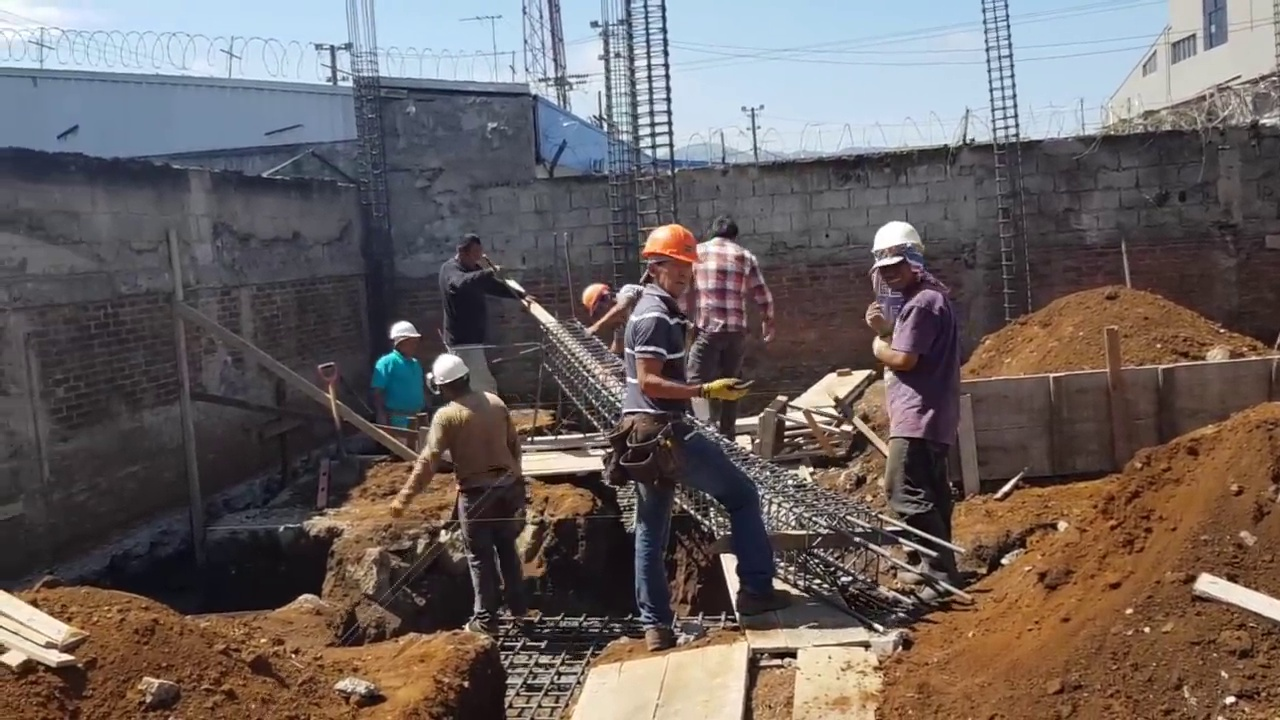helmet: (867, 220, 931, 272), (636, 223, 703, 271), (429, 355, 468, 387), (582, 280, 608, 315), (385, 324, 422, 346)
helmet-off: (445, 233, 482, 269), (708, 217, 742, 244)
helmet-on: (641, 223, 701, 299), (869, 224, 929, 295), (428, 352, 478, 406), (579, 279, 620, 324), (385, 322, 421, 362)
person: (607, 220, 764, 637), (867, 217, 965, 603), (409, 331, 528, 637), (443, 237, 541, 413), (363, 318, 429, 425), (579, 279, 642, 355)
